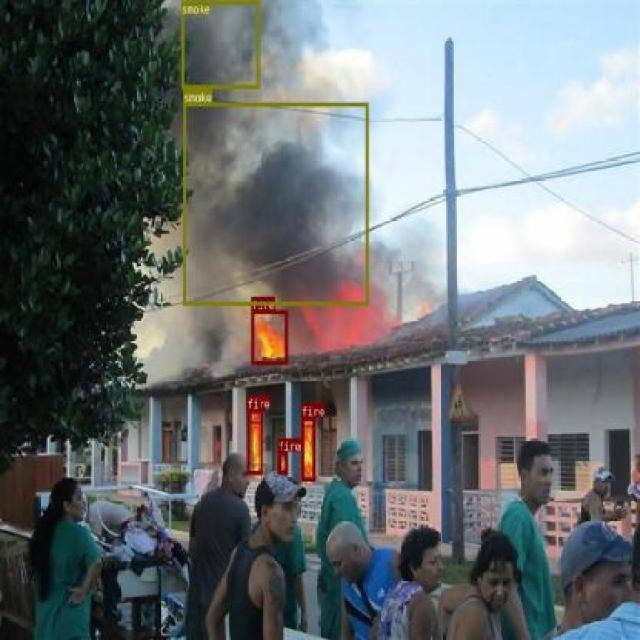Fire: (250, 309, 288, 363), (246, 408, 262, 474), (300, 416, 314, 481), (277, 452, 288, 474)
Smoke: (184, 102, 368, 304), (180, 0, 258, 88)
